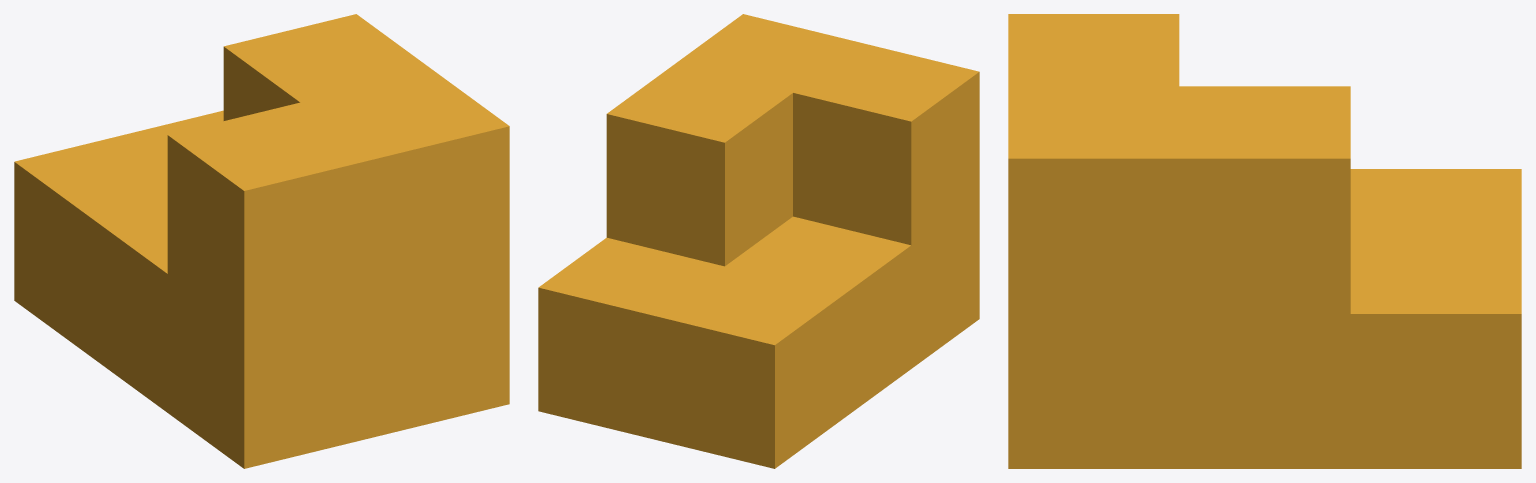
Rendered from owl__leg_l.glb.
3 views of the same model, side by side, from view 1: azimuth 30°, elevation 25°; view 2: azimuth 150°, elevation 25°; view 3: azimuth 270°, elevation 25° (orthographic). The views are drawn at different scales.
Visible parts, largest first — view 1: owl__leg_l; view 2: owl__leg_l; view 3: owl__leg_l.
Part boxes in pixels (<box>): owl__leg_l: <box>14,14,509,468</box>; owl__leg_l: <box>538,14,979,468</box>; owl__leg_l: <box>1008,14,1521,468</box>.
Size of the model in its own units: 0.2 by 0.2 by 0.3.
Materials: 1 (1 with a texture image).
